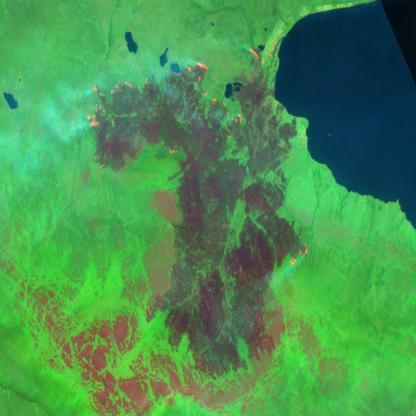fire: (82, 46, 263, 140), (286, 237, 313, 268)
